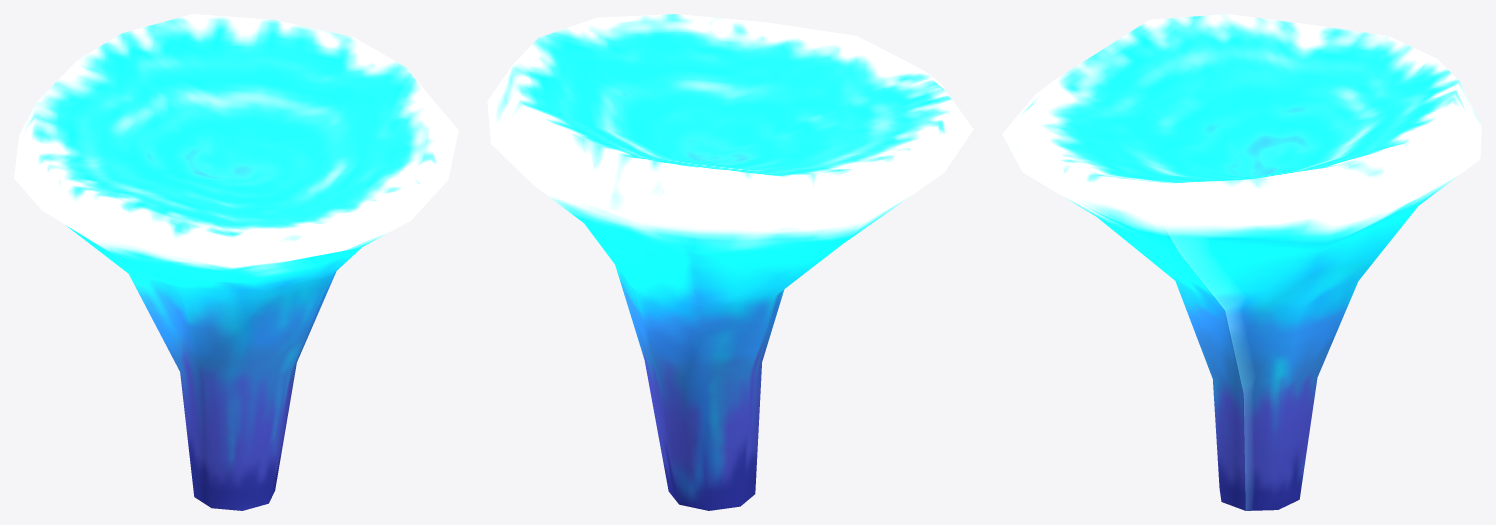
The model's file is SM_ENV_mushrooms_ancient_01_02.fbx.
3 views of the same model, side by side, from view 1: azimuth 30°, elevation 25°; view 2: azimuth 150°, elevation 25°; view 3: azimuth 270°, elevation 25° (orthographic). The views are drawn at different scales.
Parts seen in each view (by area): view 1: SM_ENV_mushrooms_ancient_01_02_LOD0; view 2: SM_ENV_mushrooms_ancient_01_02_LOD0; view 3: SM_ENV_mushrooms_ancient_01_02_LOD0.
Boxes of the visible parts, box(x1,y1,x2,y2) form: SM_ENV_mushrooms_ancient_01_02_LOD0: box(14, 14, 458, 510); SM_ENV_mushrooms_ancient_01_02_LOD0: box(487, 14, 973, 510); SM_ENV_mushrooms_ancient_01_02_LOD0: box(1002, 14, 1481, 510).
Size of the model in its own units: 21.54 by 20.95 by 22.12.
